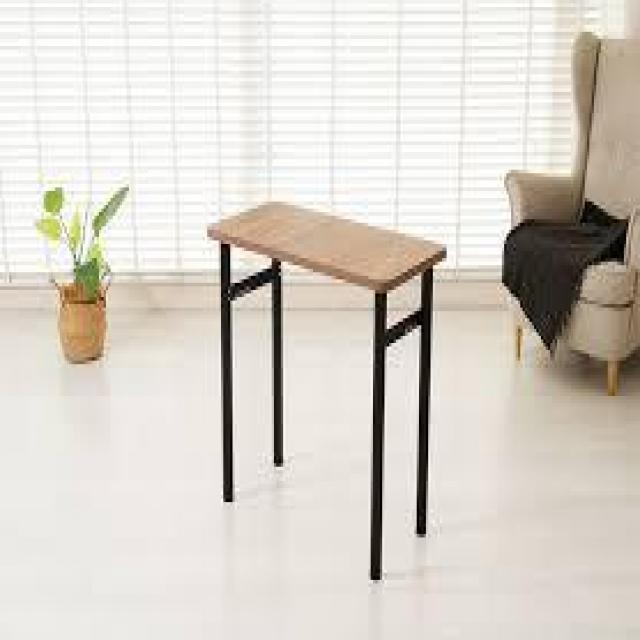table: (181, 154, 471, 613)
